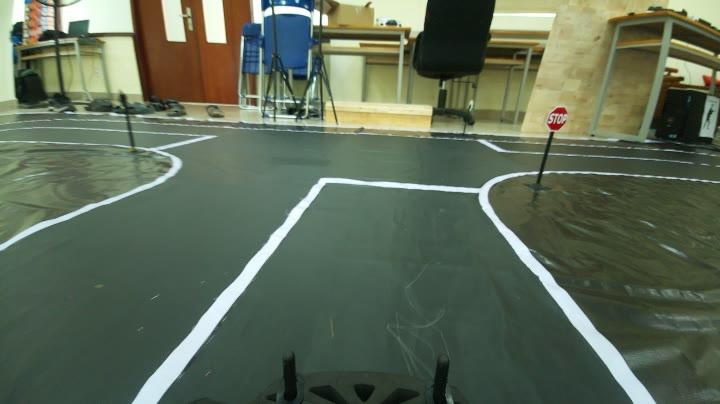stop: (544, 104, 572, 135)
